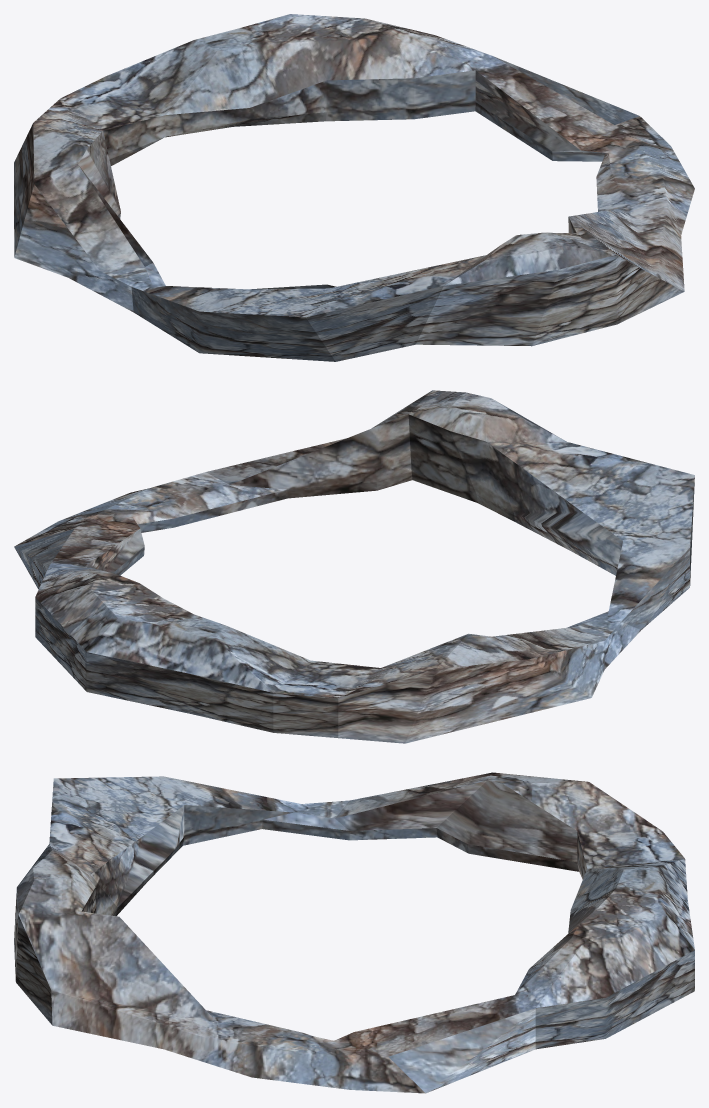
File: entrance_GEO_01.fbx
The picture shows the model from 3 angles, top to bottom: view 1: azimuth 30°, elevation 25°; view 2: azimuth 150°, elevation 25°; view 3: azimuth 270°, elevation 25°; orthographic projection. The views are drawn at different scales.
Visible parts, largest first — view 1: polySurface45; view 2: polySurface45; view 3: polySurface45.
Part boxes in pixels (<box>): polySurface45: <box>14,14,694,361</box>; polySurface45: <box>14,390,694,743</box>; polySurface45: <box>14,772,694,1093</box>.
Bounding box in the file's own units: 2.21 × 0.2904 × 2.15.
Materials: 1 (1 with a texture image).
